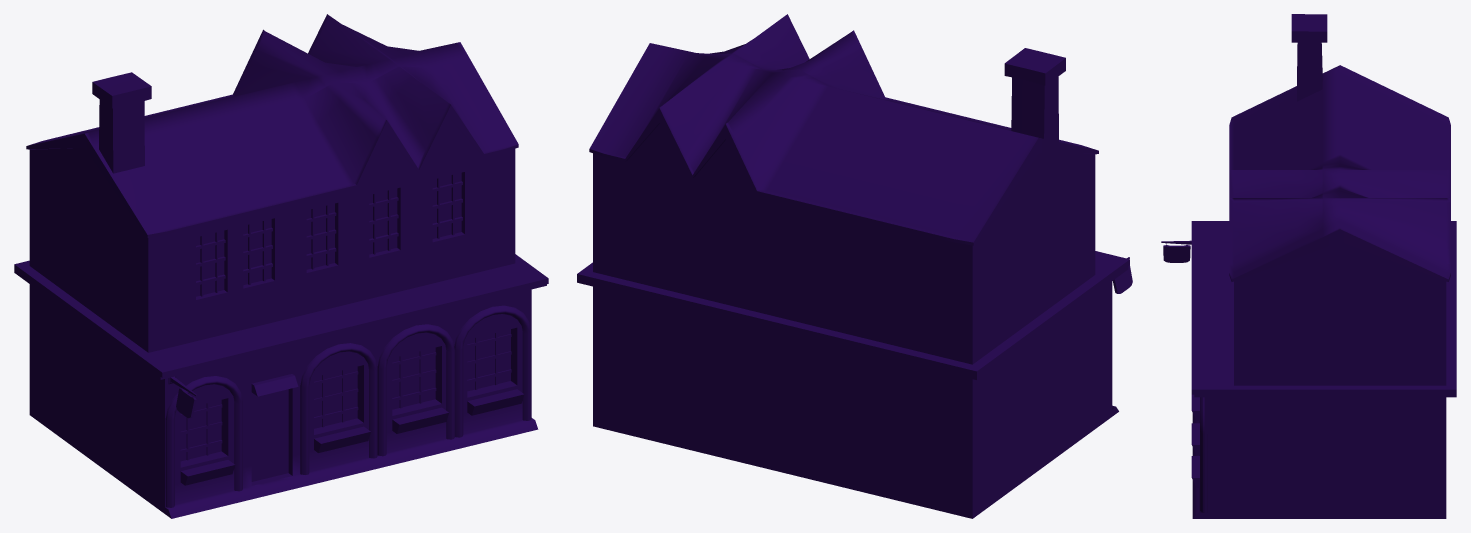
Rendered from PubAnim.fbx.
3 views of the same model, side by side, from view 1: azimuth 30°, elevation 25°; view 2: azimuth 150°, elevation 25°; view 3: azimuth 270°, elevation 25° (orthographic). The views are drawn at different scales.
Parts seen in each view (by area): view 1: pCylinder7; view 2: pCylinder7; view 3: pCylinder7, pCube3.
Boxes of the visible parts, x1,y1,x2,y2 form: pCylinder7: (14, 14, 548, 518); pCylinder7: (577, 14, 1129, 518); pCylinder7: (1161, 14, 1456, 518); pCube3: (1163, 245, 1190, 262).
Size of the model in its own units: 14.57 by 13.82 by 10.77.
